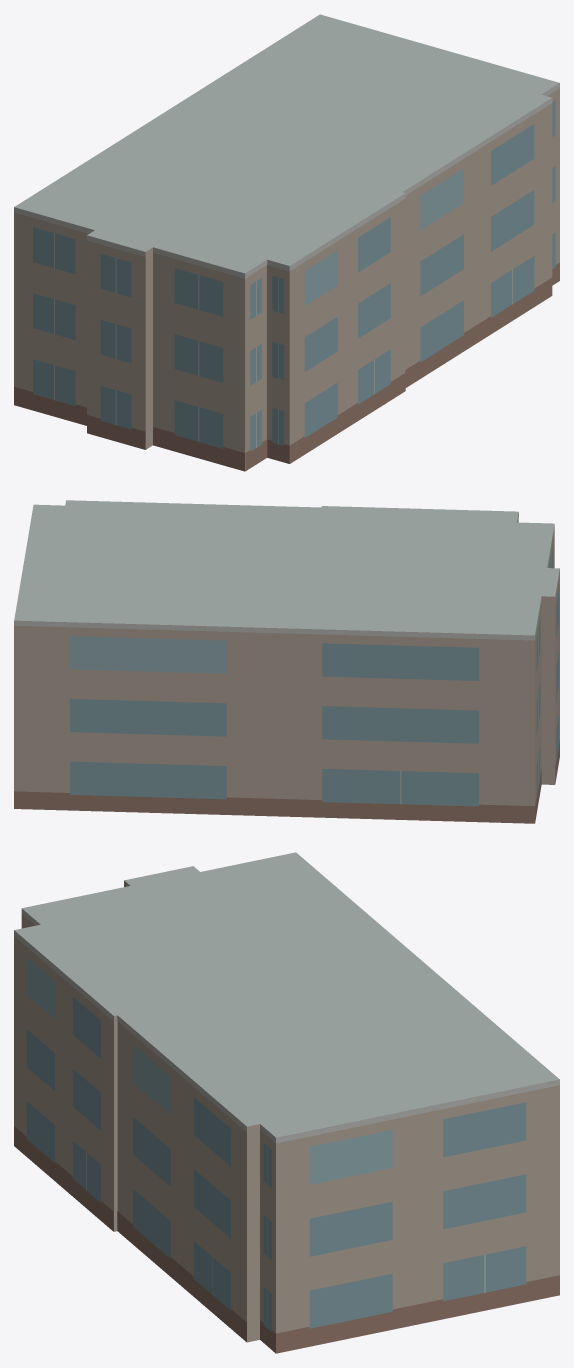
The model's file is survey-upis-32840250.glb.
3 views of the same model, one above another, from view 1: azimuth 30°, elevation 25°; view 2: azimuth 150°, elevation 25°; view 3: azimuth 270°, elevation 25° (orthographic). The views are drawn at different scales.
Parts seen in each view (by area): view 1: survey-upis-32840250.tmp; view 2: survey-upis-32840250.tmp; view 3: survey-upis-32840250.tmp.
Part boxes in pixels (x1,y1,x2,y2): survey-upis-32840250.tmp: (14, 14, 559, 471); survey-upis-32840250.tmp: (14, 500, 559, 823); survey-upis-32840250.tmp: (14, 852, 559, 1353).
Bounding box in the file's own units: 25.96 × 9.15 × 20.98.
